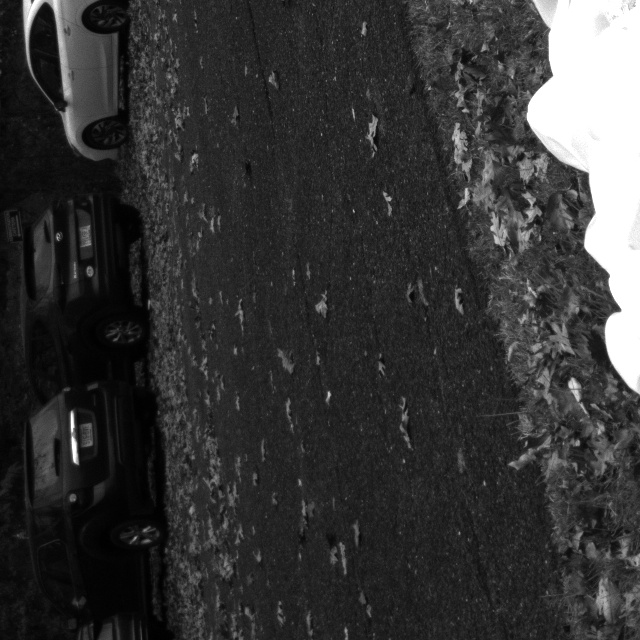can: (520, 69, 608, 170), (545, 0, 620, 116), (582, 115, 640, 255), (588, 302, 640, 439)
